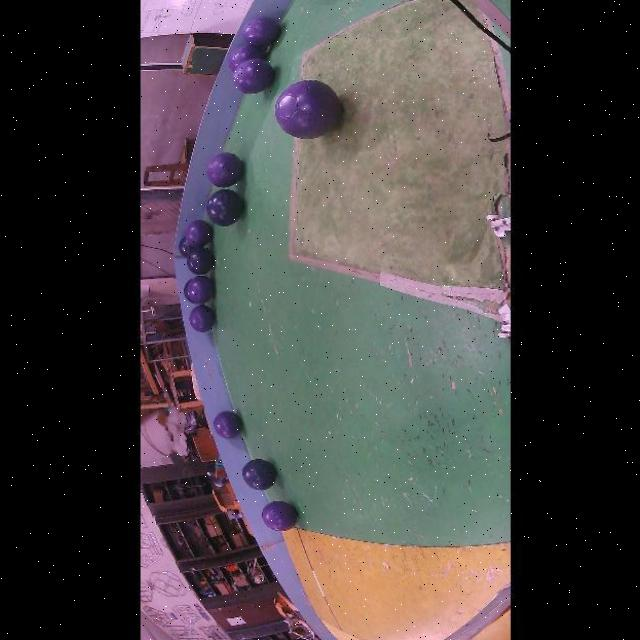B: (204, 190, 242, 226), (240, 458, 275, 491), (185, 247, 212, 276), (177, 237, 191, 258)
P: (274, 80, 339, 139), (231, 58, 272, 94), (204, 152, 242, 188), (240, 17, 279, 47), (260, 501, 296, 532), (226, 46, 263, 71), (212, 411, 240, 439), (185, 276, 212, 304), (184, 220, 211, 247), (188, 304, 213, 332)
